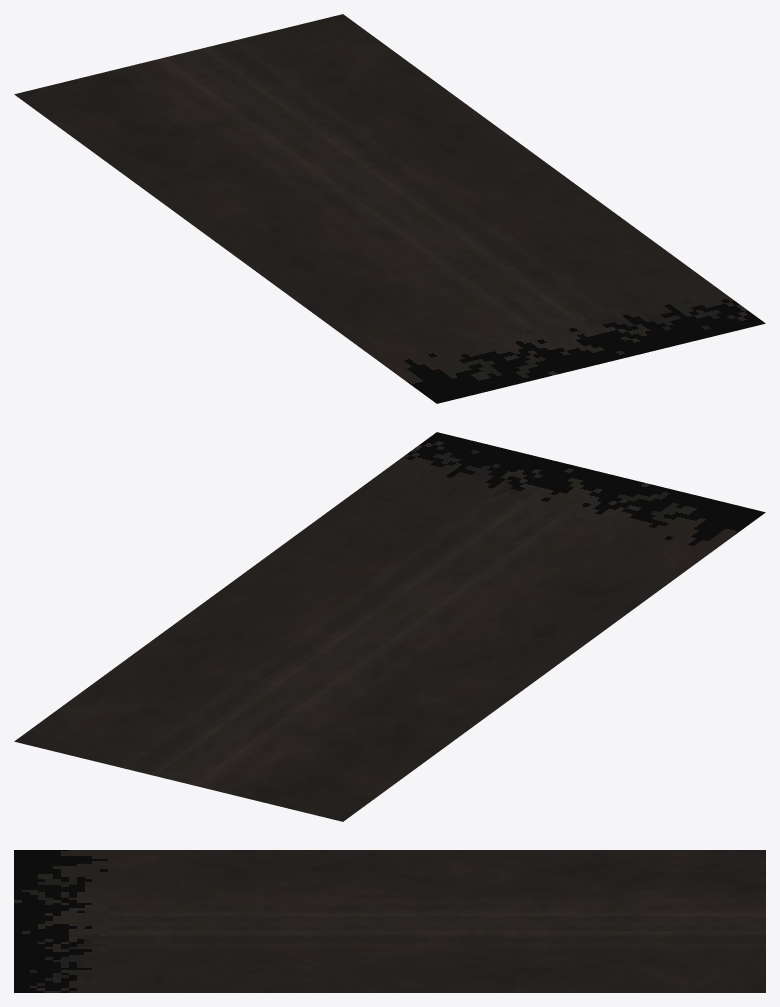
The model's file is burial_cape.glb.
3 renders of one model, top to bottom at view 1: azimuth 30°, elevation 25°; view 2: azimuth 150°, elevation 25°; view 3: azimuth 270°, elevation 25°, orthographic. The views are drawn at different scales.
Parts seen in each view (by area): view 1: Plane; view 2: Plane; view 3: Plane.
Part boxes in pixels (x1,y1,x2,y2): Plane: [14, 14, 765, 403]; Plane: [14, 432, 765, 821]; Plane: [14, 850, 765, 992].
Size of the model in its own units: 1.11 by 0 by 2.47.
1 material, 1 textured.
